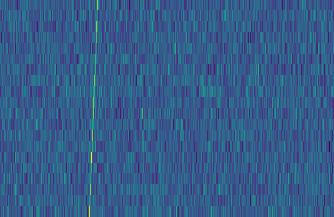signal: (83, 0, 101, 217)
